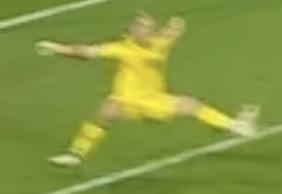goalkeeper: (24, 0, 267, 184)
